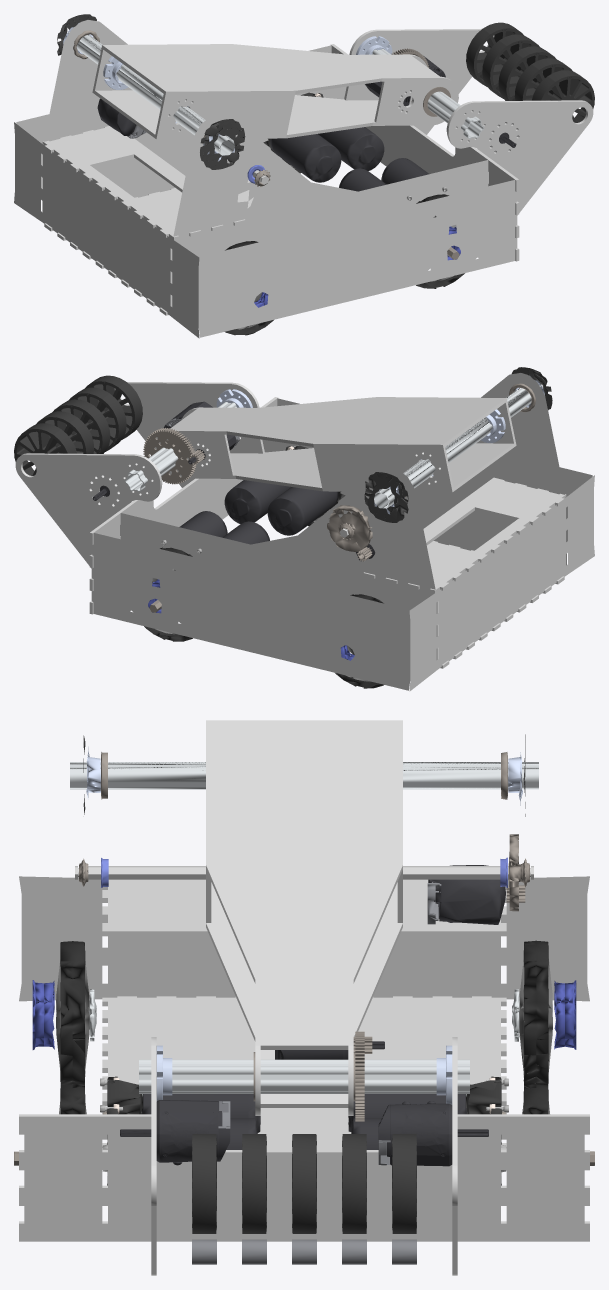
Rendered from mentores-3478.glb.
3 renders of one model, top to bottom at view 1: azimuth 30°, elevation 25°; view 2: azimuth 150°, elevation 25°; view 3: azimuth 270°, elevation 25°, orthographic. The views are drawn at different scales.
Visible parts, largest first — view 1: Brazo (×16), Lateral Ext (×2), Lateral Int (×2), Trasera, Superior, Transmición CIM (×4), Frontal, SplineXL, 42T Sprockets (×2), Base, Kraken X60; view 2: Brazo (×17), Lateral Ext (×2), Lateral Int (×2), Trasera, Superior, Transmición CIM (×4), Frontal, SplineXL, 42T Sprockets (×2), 60T gear, Base; view 3: Brazo (×18), Frontal, Trasera, Base, Wheel (×8), Superior, SplineXL, Transmición CIM (×4), FlechaHEx, Kraken X60, 60T gear.
Part boxes in pixels (left/top/right/bottom): Brazo (×16): left=92, top=22, right=594, bottom=215; Lateral Ext (×2): left=16, top=45, right=516, bottom=337; Lateral Int (×2): left=42, top=20, right=488, bottom=306; Trasera: left=14, top=122, right=199, bottom=338; Superior: left=42, top=126, right=245, bottom=240; Transmición CIM (×4): left=270, top=127, right=429, bottom=191; Frontal: left=331, top=44, right=519, bottom=261; SplineXL: left=68, top=32, right=234, bottom=155; 42T Sprockets (×2): left=57, top=14, right=245, bottom=169; Base: left=44, top=179, right=253, bottom=315; Kraken X60: left=97, top=98, right=136, bottom=135; Brazo (×17): left=14, top=375, right=516, bottom=568; Lateral Ext (×2): left=92, top=398, right=592, bottom=690; Lateral Int (×2): left=120, top=373, right=566, bottom=659; Trasera: left=409, top=475, right=594, bottom=691; Superior: left=363, top=477, right=566, bottom=593; Transmición CIM (×4): left=179, top=480, right=338, bottom=544; Frontal: left=89, top=397, right=277, bottom=614; SplineXL: left=374, top=385, right=540, bottom=508; 42T Sprockets (×2): left=364, top=367, right=552, bottom=522; 60T gear: left=327, top=505, right=372, bottom=551; Base: left=427, top=541, right=564, bottom=668; Brazo (×18): left=120, top=720, right=488, bottom=1275; Frontal: left=19, top=1114, right=589, bottom=1241; Trasera: left=19, top=876, right=589, bottom=1001; Base: left=102, top=996, right=506, bottom=1149; Wheel (×8): left=32, top=940, right=576, bottom=1114; Superior: left=102, top=879, right=506, bottom=936; SplineXL: left=70, top=762, right=538, bottom=789; Transmición CIM (×4): left=106, top=1076, right=502, bottom=1185; FlechaHEx: left=75, top=866, right=533, bottom=879; Kraken X60: left=428, top=865, right=505, bottom=924; 60T gear: left=508, top=834, right=520, bottom=911.
Size of the model in its own units: 0.8186 by 0.3754 by 0.59.
